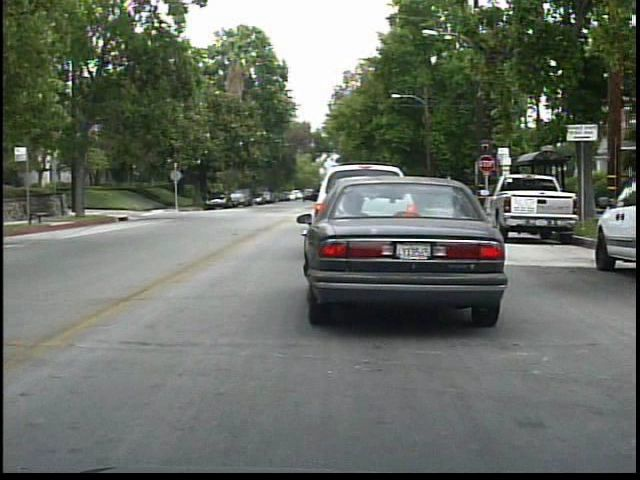person: (216, 180, 231, 205)
